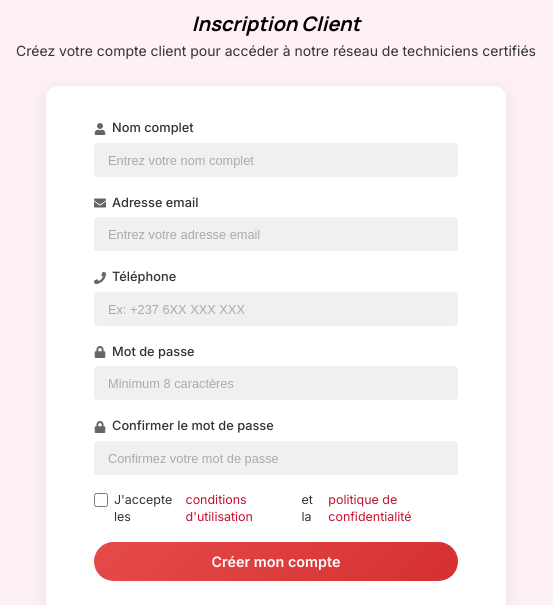
Test: Inscription Client › refuse des mots de passe différents sans appeler le serveur
Type "Alice" into the field with placeholder "Entrez votre nom complet". click: (276, 160)
box: 94,143 -> 458,177
Type "nouveau@test.local" into the field with placeholder "Entrez votre adresse email". click: (276, 234)
box: 94,217 -> 458,251
Type "+237600000000" into the field with placeholder "Ex: +237 6XX XXX XXX". click: (276, 309)
box: 94,292 -> 458,326
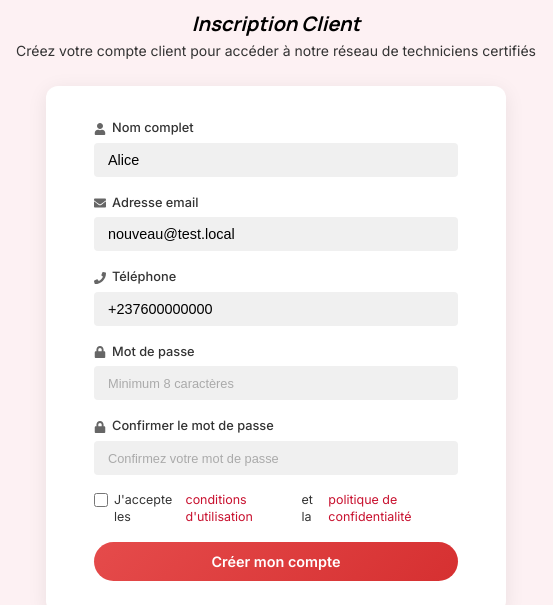
Type "Passw0rd!123" into the password field with placeholder "Minimum 8 caractères". click: (276, 383)
box: 94,366 -> 458,400
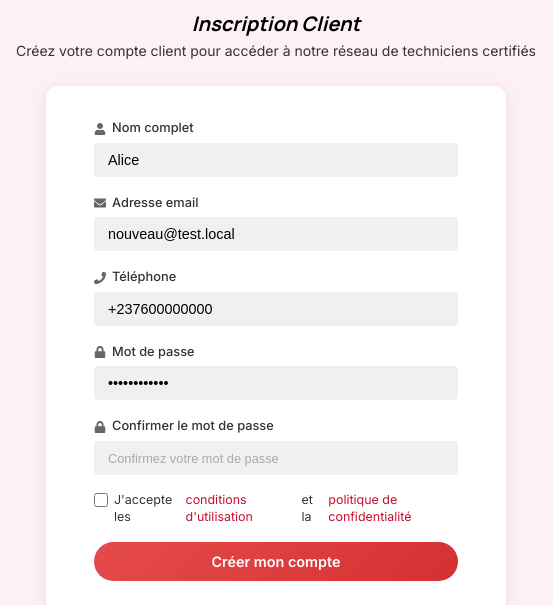
Type "Passw0rd!123" into the password field with placeholder "Confirmez votre mot de passe". click: (276, 458)
box: 94,441 -> 458,475
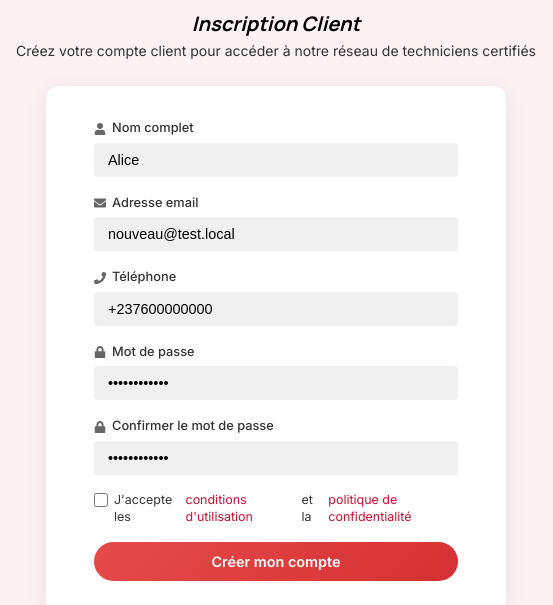
Type "autre" into the password field below "Confirmer le mot de passe". click: (276, 458)
box: 94,441 -> 458,475
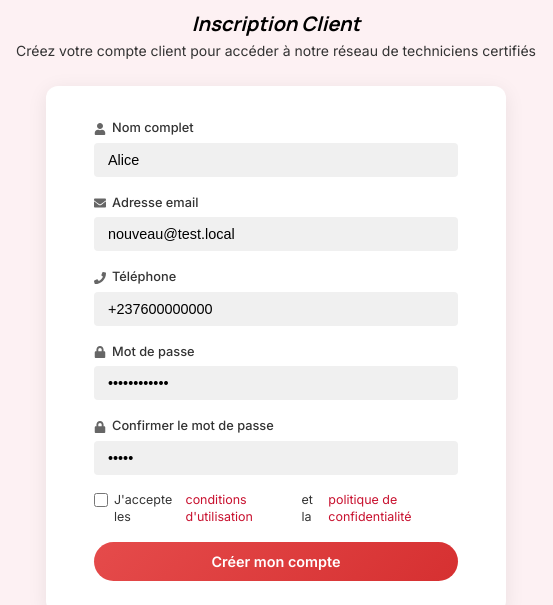
Click the checkbox. click: click(101, 500)
box: 94,493 -> 108,507
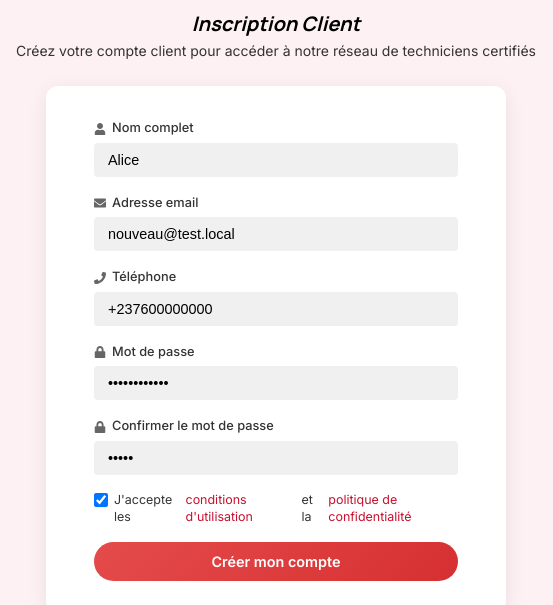
Submit the form, box 94,118 -> 458,581
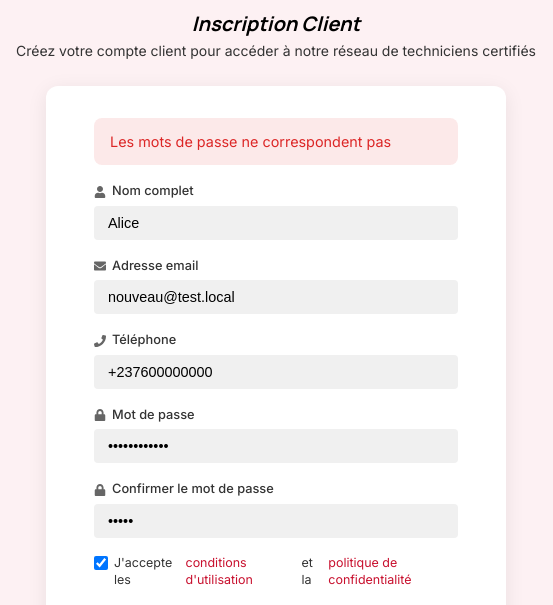
Expected: the text "Les mots de passe ne correspondent pas" is shown, 94,118 -> 458,165
